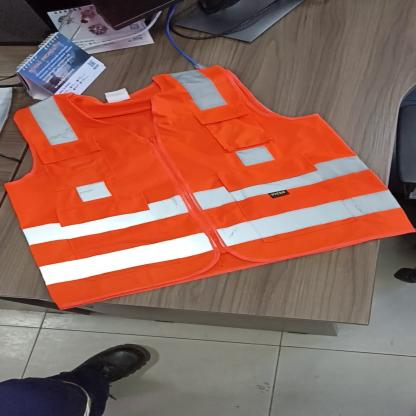colete: (3, 65, 416, 313)
